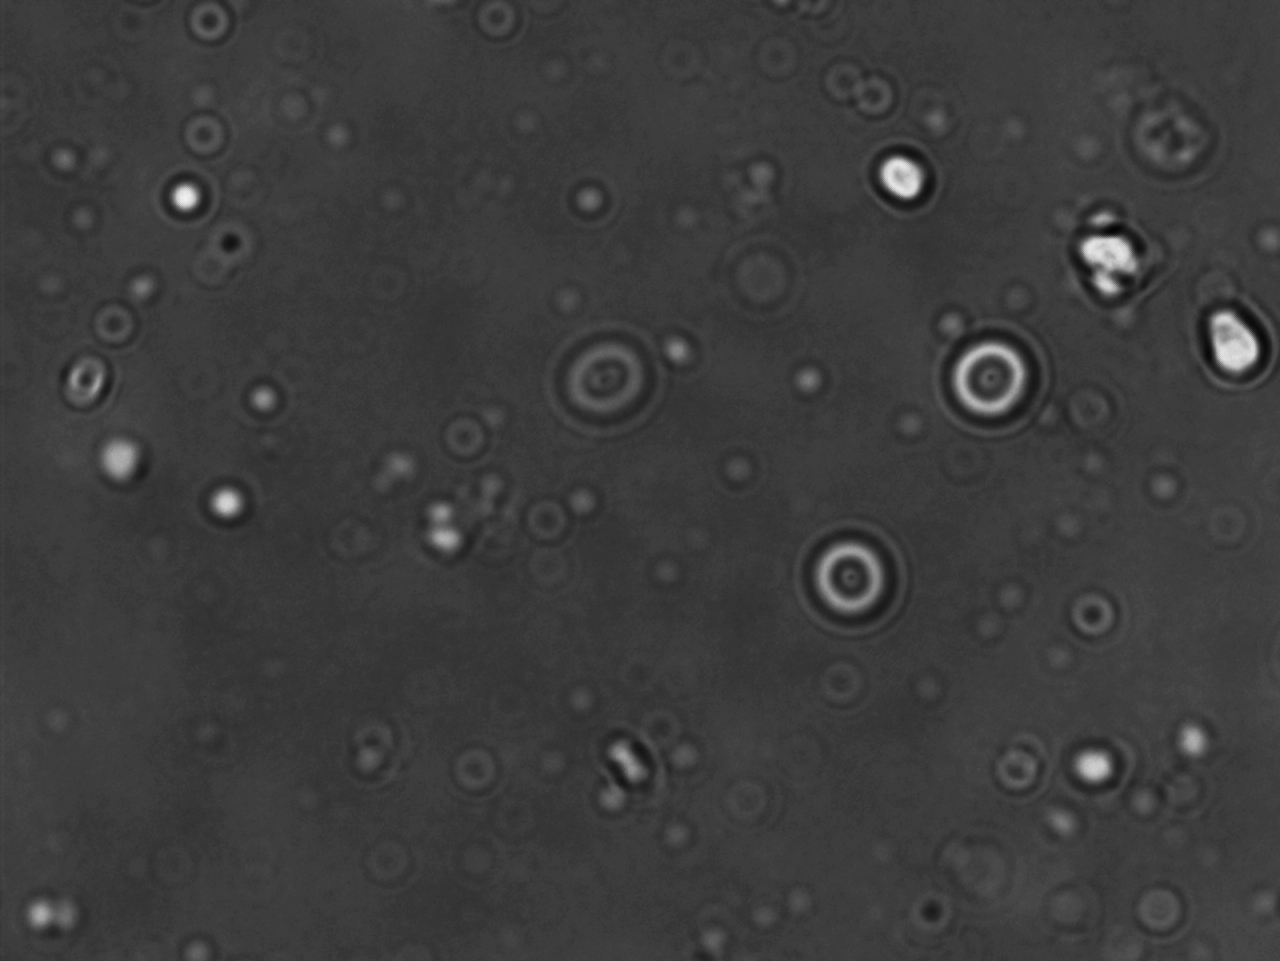depth:8: (786, 515, 918, 640), (929, 328, 1058, 446)
